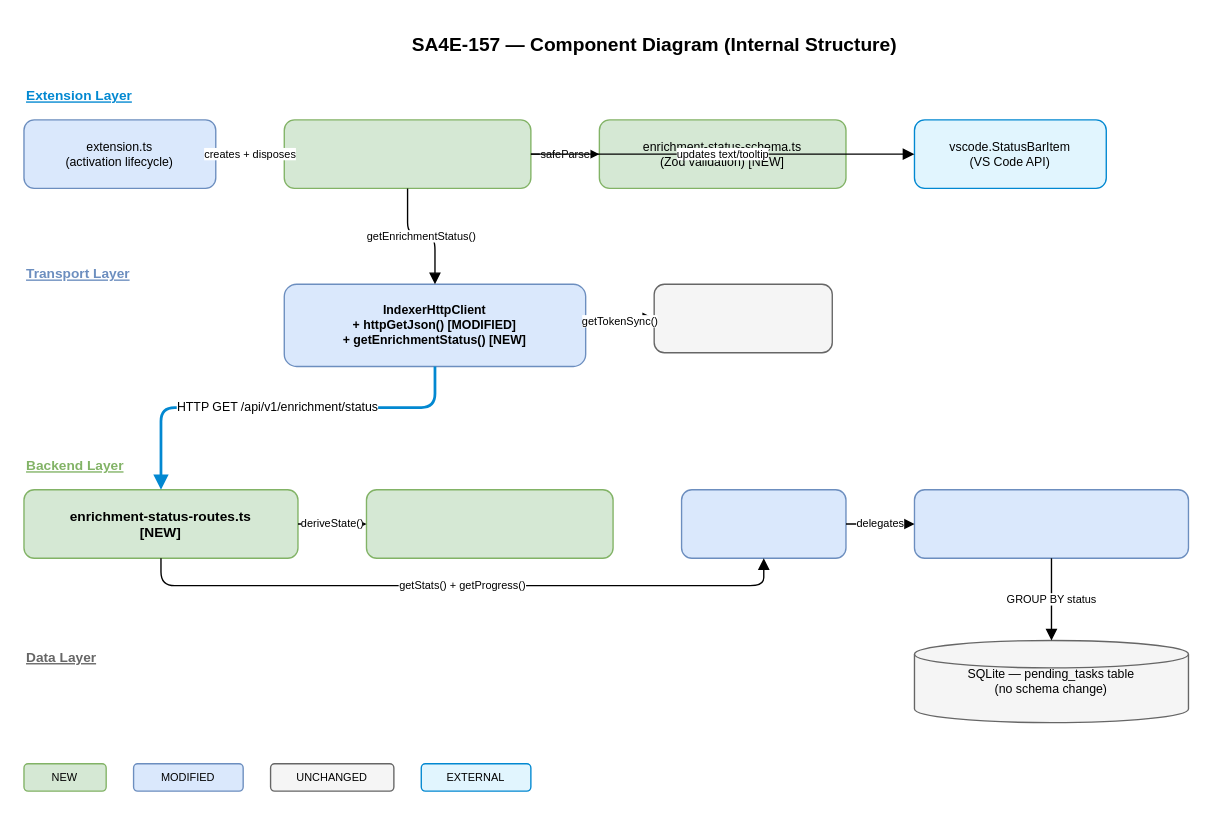
The diagram is 1212 pixels wide and 815 high, and some of its shapes have lost their labels. Each missing label, with the centre of its shape:
"AuthManager getTokenSync()" belongs at (742,318).
"EnrichmentStatusSchema.ts (Zod + deriveState) [NEW]" belongs at (489,523).
"EnrichmentStatusService [NEW]" belongs at (407,153).
"PendingTaskRepository + getEarliestActiveTimestamp() [MODIFIED]" belongs at (1050,523).
"TaskWorker (existing)" belongs at (763,523).
